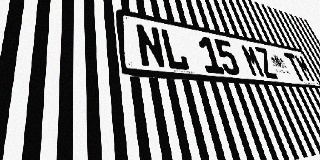1: (196, 35, 225, 74)
5: (213, 38, 242, 76)
L: (159, 28, 190, 71)
M: (239, 44, 266, 78), (293, 54, 316, 82)
N: (134, 23, 167, 69)
T: (283, 52, 307, 81)
Z: (253, 46, 279, 79)
